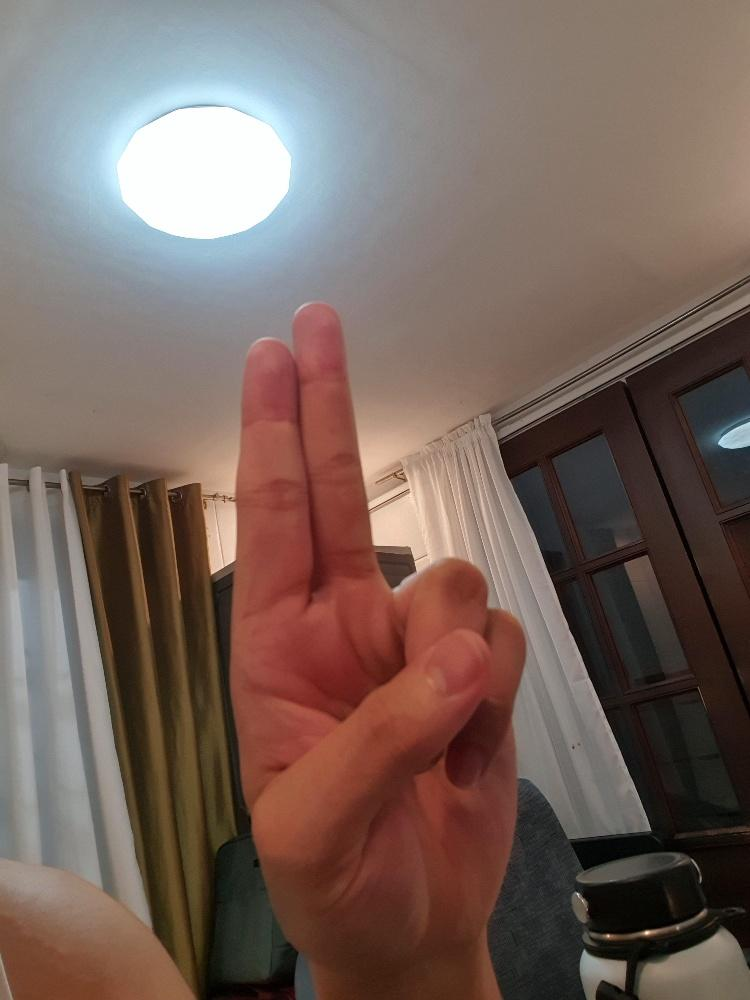u: (224, 296, 532, 975)
